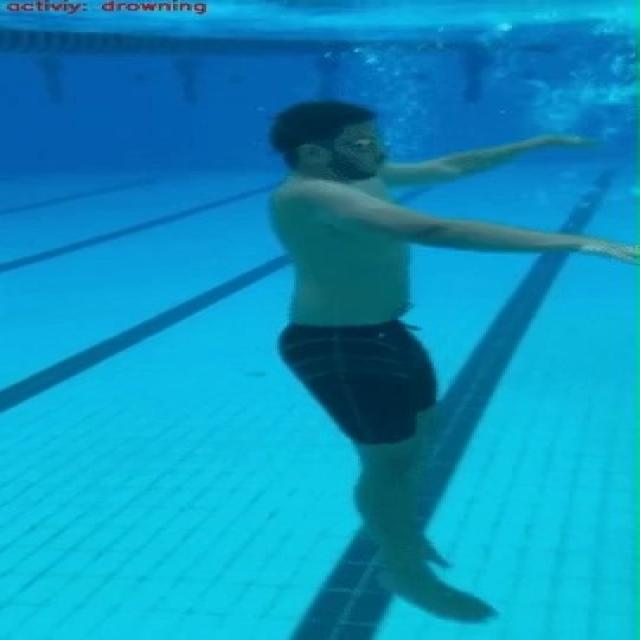Drowning: (262, 97, 640, 627)
